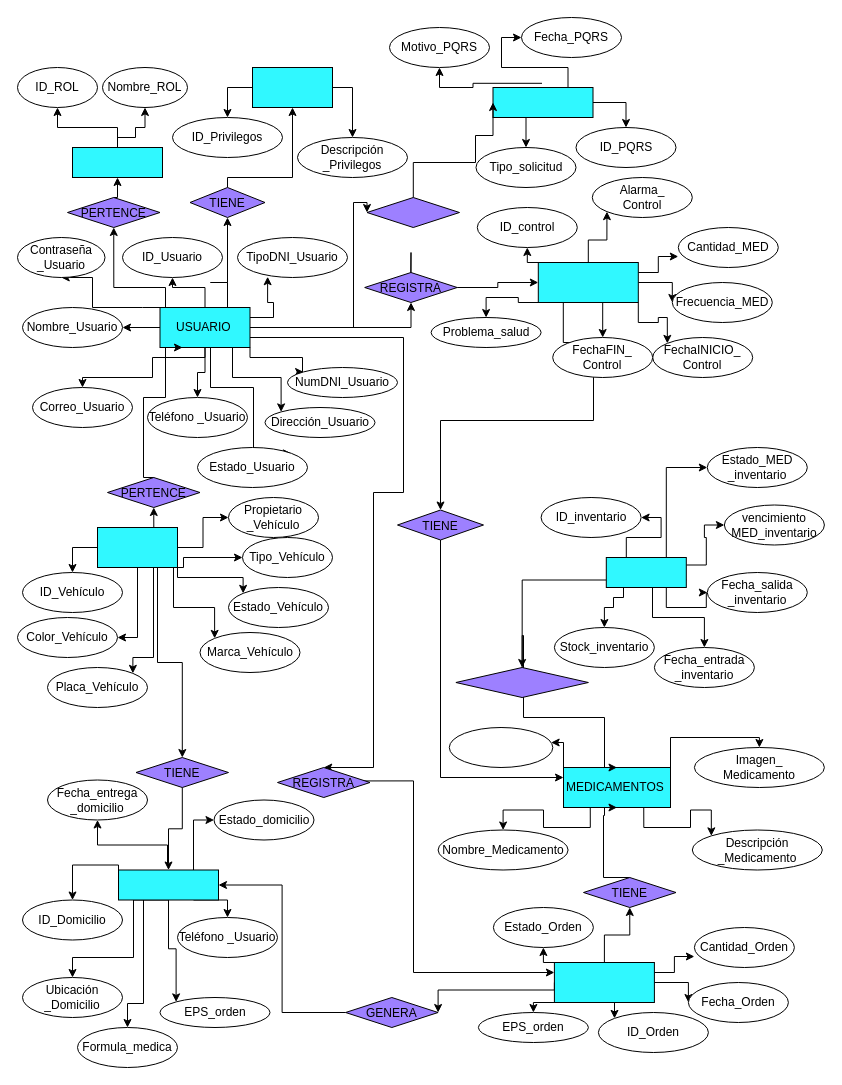
Image size: 842x1085. Some labels were removed from this diagram. The shapes that lost their labels are listed below. From the top down, each one's centre as x and y in pixels, then its label:
At [292,87]: "PRIVILEGIOS".
At [542,102]: "PQRS".
At [117,162]: "ROLES".
At [413,212]: "CREA".
At [587,282]: "CONTROL".
At [137,547]: "Vehículo".
At [645,572]: "INVENTARIO".
At [521,682]: "SUMINISTRA".
At [500,747]: "ID_Medicamento".
At [168,884]: "DOMICILIO".
At [603,982]: "ORDENES".
